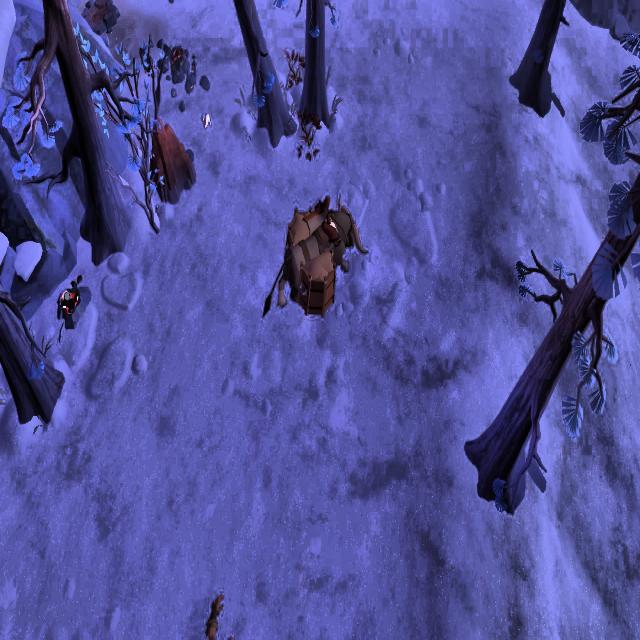rock_t5: (144, 112, 195, 202)
